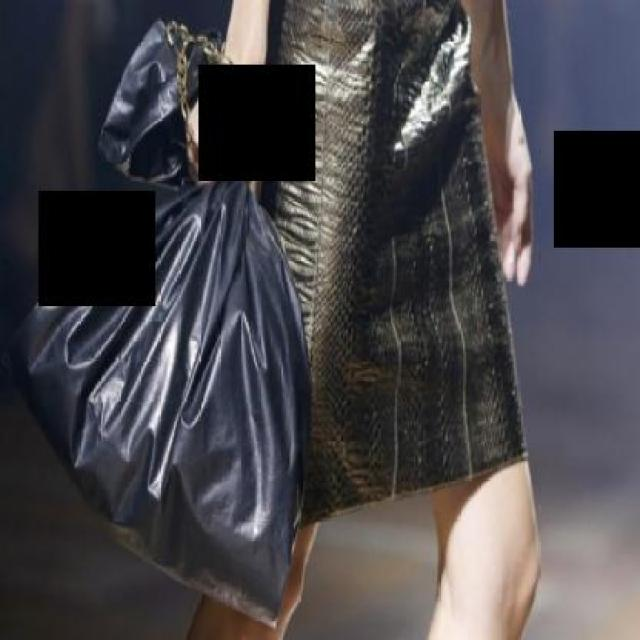plastic bag: (23, 0, 346, 625)
